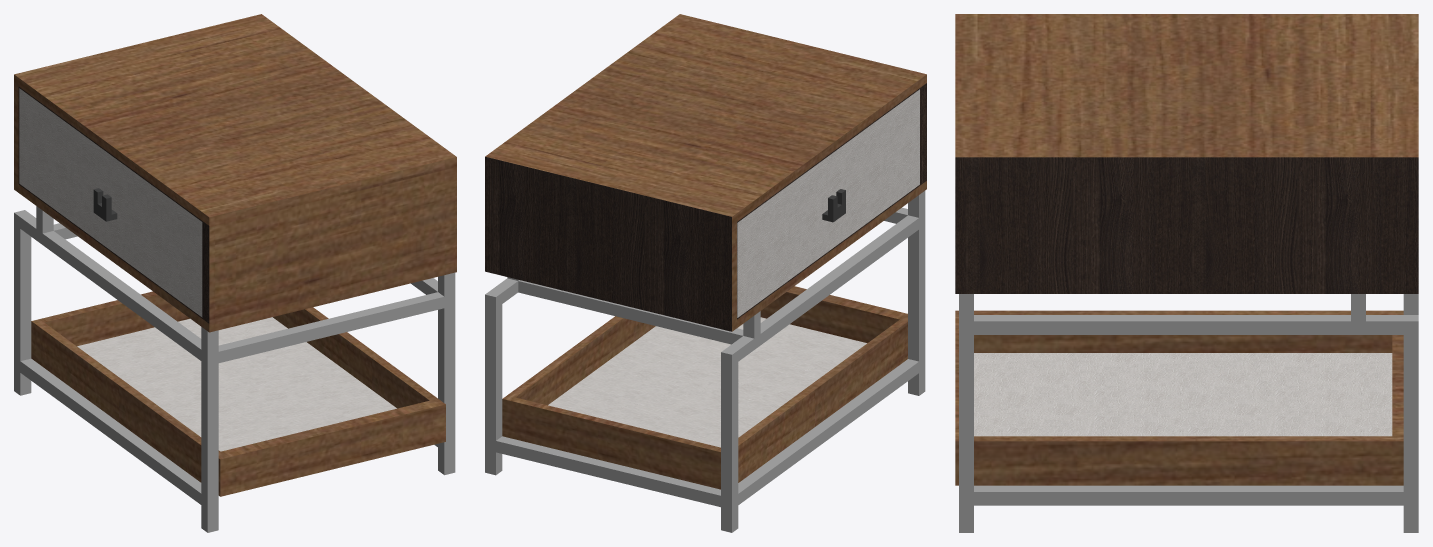
The model's file is ST28200+VELADOR+STUDIO.fbx.
3 renders of one model, left to right at view 1: azimuth 30°, elevation 25°; view 2: azimuth 150°, elevation 25°; view 3: azimuth 270°, elevation 25°, orthographic. The views are drawn at different scales.
Parts seen in each view (by area): view 1: Group_162_1, Group_169_1, Group_167_1, Group_168_1; view 2: Group_162_1, Group_169_1, Group_167_1, Group_168_1; view 3: Group_162_1, Group_169_1, Group_167_1.
Part boxes in pixels (x1,y1,x2,y2): Group_162_1: [14, 14, 456, 332]; Group_169_1: [31, 291, 445, 496]; Group_167_1: [14, 206, 455, 532]; Group_168_1: [93, 188, 117, 221]; Group_162_1: [485, 14, 926, 331]; Group_169_1: [502, 286, 907, 489]; Group_167_1: [485, 191, 925, 532]; Group_168_1: [822, 189, 845, 222]; Group_162_1: [955, 14, 1418, 293]; Group_169_1: [955, 310, 1403, 485]; Group_167_1: [959, 294, 1418, 532].
Bounding box in the file's own units: 0.47 × 0.55 × 0.6148.
